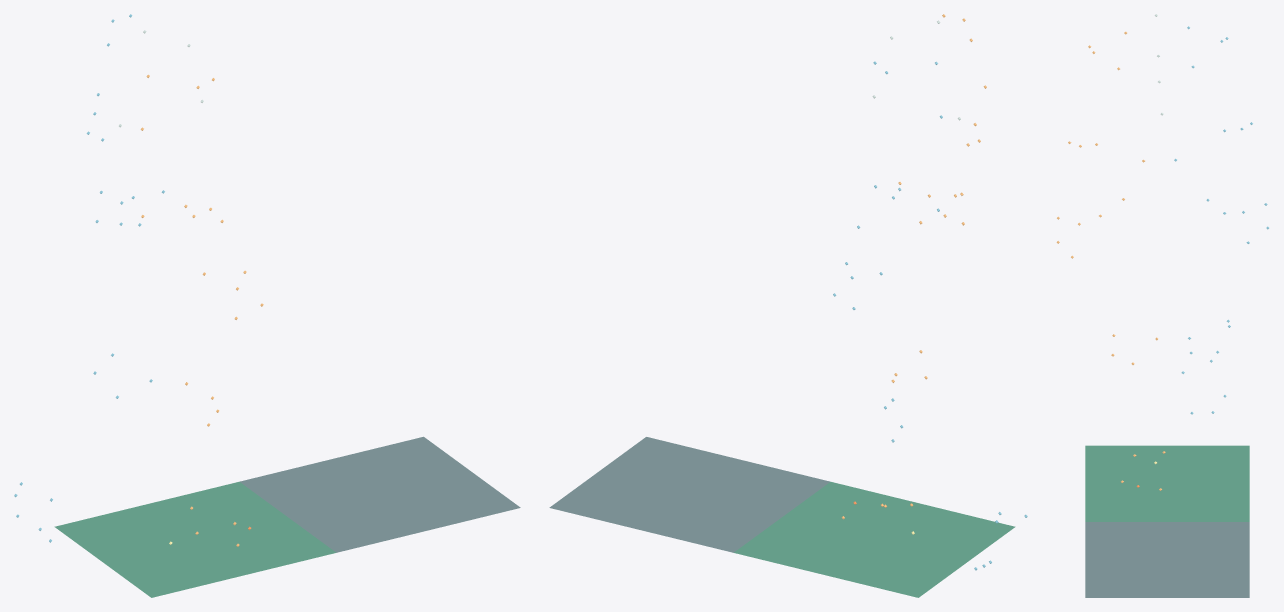
The model's file is pose-39.glb.
3 renders of one model, left to right at view 1: azimuth 30°, elevation 25°; view 2: azimuth 150°, elevation 25°; view 3: azimuth 270°, elevation 25°, orthographic. The views are drawn at different scales.
Visible parts, largest first — view 1: Plate 1 surface, Plate 2 surface; view 2: Plate 1 surface, Plate 2 surface; view 3: Plate 1 surface, Plate 2 surface.
Part boxes in pixels (x1=…): Plate 1 surface: x1=54, y1=481, x2=336, y2=597; Plate 2 surface: x1=240, y1=436, x2=520, y2=552; Plate 1 surface: x1=734, y1=482, x2=1015, y2=597; Plate 2 surface: x1=549, y1=437, x2=830, y2=552; Plate 1 surface: x1=1085, y1=445, x2=1249, y2=521; Plate 2 surface: x1=1085, y1=522, x2=1249, y2=597.
Bounding box in the file's own units: 1.22 × 1.39 × 0.6026.
